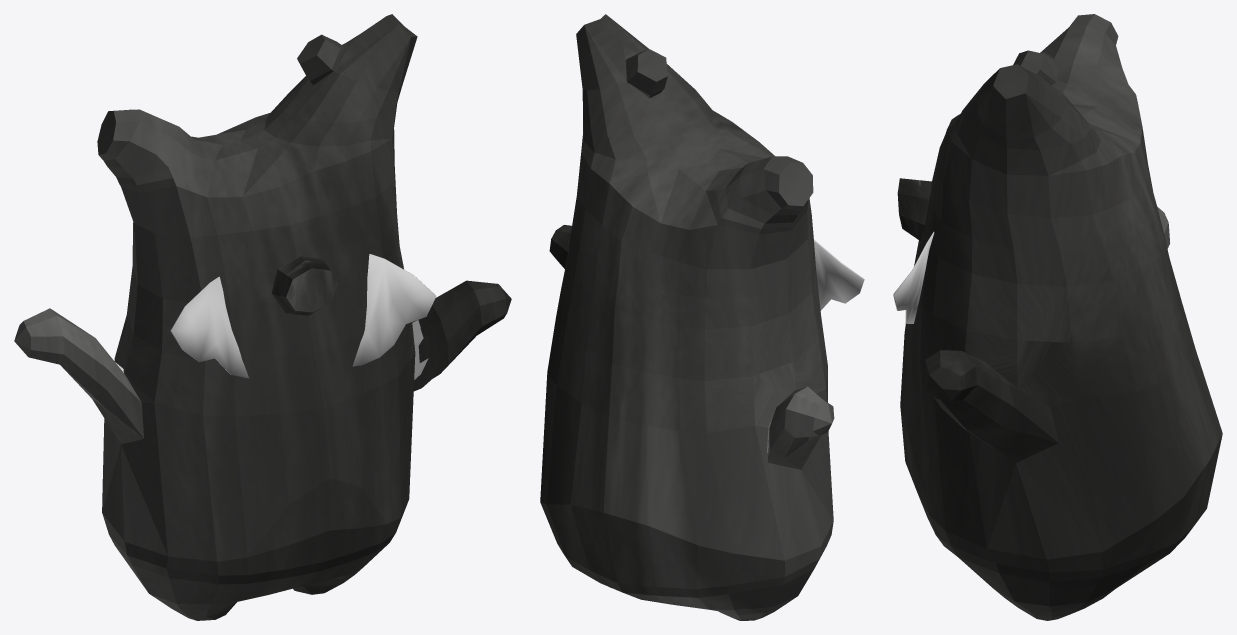
The model's file is frame_0134.obj.
3 renders of one model, left to right at view 1: azimuth 30°, elevation 25°; view 2: azimuth 150°, elevation 25°; view 3: azimuth 270°, elevation 25°, orthographic. The views are drawn at different scales.
Parts seen in each view (by area): view 1: korok, leaf, nose; view 2: korok, leaf; view 3: korok, nose, leaf.
Boxes of the visible parts, bbox=[...] form: korok: bbox=[14, 14, 511, 620]; leaf: bbox=[170, 254, 436, 378]; nose: bbox=[271, 256, 338, 315]; korok: bbox=[540, 14, 834, 620]; leaf: bbox=[814, 240, 864, 310]; korok: bbox=[900, 14, 1222, 620]; nose: bbox=[897, 178, 931, 241]; leaf: bbox=[893, 231, 934, 323].
Size of the model in its own units: 1.67 by 2.32 by 1.19.
